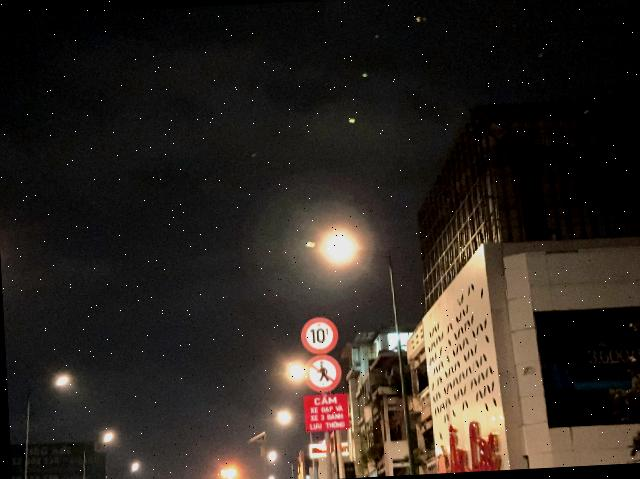cam-nguoi-di-bo: (302, 354, 343, 394)
han-che-trong-luong-xe: (300, 316, 340, 355)
